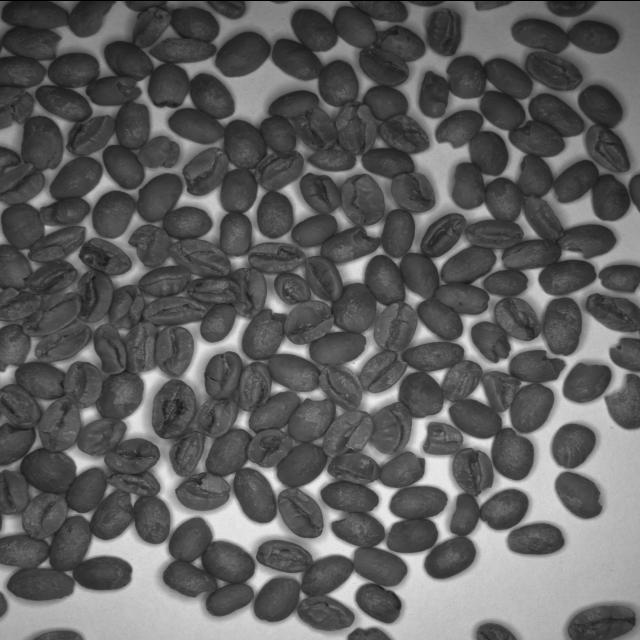bad: (562, 601, 639, 640), (21, 290, 84, 336), (150, 378, 198, 438), (166, 237, 232, 280), (86, 487, 138, 541), (320, 408, 375, 458), (550, 470, 604, 520), (36, 396, 84, 452), (338, 172, 386, 228), (240, 307, 290, 360), (523, 50, 583, 94), (276, 486, 326, 538), (370, 300, 420, 352), (582, 122, 632, 174), (488, 426, 536, 480), (62, 112, 120, 156), (180, 146, 230, 196), (282, 299, 336, 345), (31, 322, 93, 362), (286, 396, 337, 444), (376, 113, 434, 155), (582, 292, 640, 334), (19, 114, 63, 169), (368, 400, 412, 455), (506, 119, 568, 158), (172, 470, 232, 510), (600, 372, 640, 432), (416, 210, 468, 256), (335, 100, 379, 154), (508, 16, 570, 54), (318, 225, 381, 262), (318, 362, 364, 412), (492, 296, 542, 342), (28, 225, 88, 263), (557, 222, 617, 260), (0, 24, 63, 60), (252, 148, 306, 190), (20, 492, 68, 539), (359, 349, 408, 395), (159, 560, 218, 598), (76, 268, 116, 324), (294, 594, 356, 630), (353, 582, 406, 624), (478, 487, 531, 529), (559, 362, 613, 403), (146, 62, 192, 110), (328, 510, 386, 548), (13, 360, 68, 400), (450, 446, 494, 496), (102, 436, 161, 473), (520, 195, 566, 242), (76, 417, 130, 457), (254, 538, 314, 574), (397, 252, 442, 300), (60, 359, 104, 408), (62, 0, 117, 39), (166, 5, 222, 43), (442, 52, 488, 98), (552, 158, 600, 202), (506, 348, 568, 382), (500, 237, 562, 271), (140, 295, 210, 325), (244, 426, 294, 468), (388, 170, 438, 212), (77, 237, 132, 275), (371, 24, 426, 62), (155, 325, 195, 377), (357, 48, 411, 86), (147, 36, 220, 64), (126, 223, 172, 267), (294, 104, 338, 150), (468, 320, 514, 364), (0, 382, 42, 430), (202, 350, 244, 398), (378, 448, 428, 488), (463, 218, 527, 249), (438, 359, 483, 403), (326, 450, 384, 484), (432, 282, 490, 316), (449, 160, 488, 210), (230, 267, 268, 318), (425, 6, 463, 57), (480, 368, 522, 414), (193, 397, 240, 438), (237, 360, 274, 412), (167, 430, 207, 478), (246, 240, 306, 272), (302, 254, 342, 302), (136, 263, 192, 297), (130, 5, 174, 48), (299, 170, 341, 215), (92, 323, 129, 374), (123, 321, 159, 373), (84, 74, 144, 105), (36, 195, 92, 228), (515, 153, 555, 199), (26, 259, 78, 294), (103, 468, 163, 498), (108, 283, 146, 329), (0, 322, 34, 373), (134, 133, 182, 169), (416, 70, 452, 118), (0, 422, 37, 468), (0, 242, 33, 291), (0, 286, 44, 322), (186, 276, 242, 304), (0, 84, 34, 130), (420, 420, 466, 454), (448, 493, 483, 537), (272, 271, 312, 306), (595, 262, 640, 292), (603, 336, 640, 372), (0, 469, 29, 514), (305, 146, 357, 170), (469, 621, 523, 640), (543, 0, 593, 19), (343, 624, 395, 640), (0, 144, 22, 178)
good: (212, 29, 272, 77), (526, 91, 587, 136), (18, 447, 76, 494), (45, 155, 103, 202), (94, 370, 148, 420), (438, 244, 498, 288), (46, 514, 92, 571), (231, 466, 277, 523), (330, 280, 380, 332), (274, 442, 330, 488), (296, 554, 356, 596), (350, 545, 410, 587), (541, 296, 583, 356), (534, 258, 600, 296), (508, 382, 556, 434), (200, 539, 256, 583), (165, 515, 217, 562), (33, 83, 94, 123), (446, 397, 504, 439), (4, 566, 75, 600), (422, 535, 478, 578), (90, 188, 138, 238), (247, 390, 304, 432), (270, 38, 324, 82), (204, 427, 253, 475), (136, 172, 183, 222), (362, 252, 406, 305), (265, 352, 323, 392), (314, 59, 360, 109), (72, 554, 134, 591), (165, 107, 227, 144), (222, 118, 266, 170), (482, 56, 534, 100), (101, 38, 155, 80), (253, 576, 300, 624), (433, 108, 485, 151), (64, 466, 110, 514), (288, 6, 336, 52), (399, 370, 445, 418), (551, 422, 597, 470), (386, 484, 449, 519), (576, 83, 626, 127), (307, 330, 368, 366), (318, 480, 382, 514), (186, 72, 233, 118), (0, 202, 45, 250), (0, 0, 71, 30), (385, 516, 441, 554), (1, 160, 46, 207), (416, 297, 464, 341), (505, 522, 567, 556), (44, 51, 100, 88), (480, 175, 524, 222), (468, 129, 510, 178), (477, 88, 526, 130), (133, 494, 172, 546), (101, 144, 145, 190), (332, 5, 378, 49), (590, 172, 630, 222), (401, 341, 465, 372), (378, 206, 417, 256), (567, 18, 621, 54), (161, 203, 213, 240), (202, 581, 255, 617), (256, 188, 294, 238), (218, 167, 258, 214), (0, 532, 52, 568), (112, 101, 150, 150), (360, 146, 418, 178), (360, 85, 410, 122), (290, 212, 340, 248), (264, 89, 320, 120), (198, 301, 238, 343), (216, 211, 252, 257), (1, 54, 48, 88), (258, 114, 298, 152), (346, 0, 409, 23), (481, 268, 532, 296)
